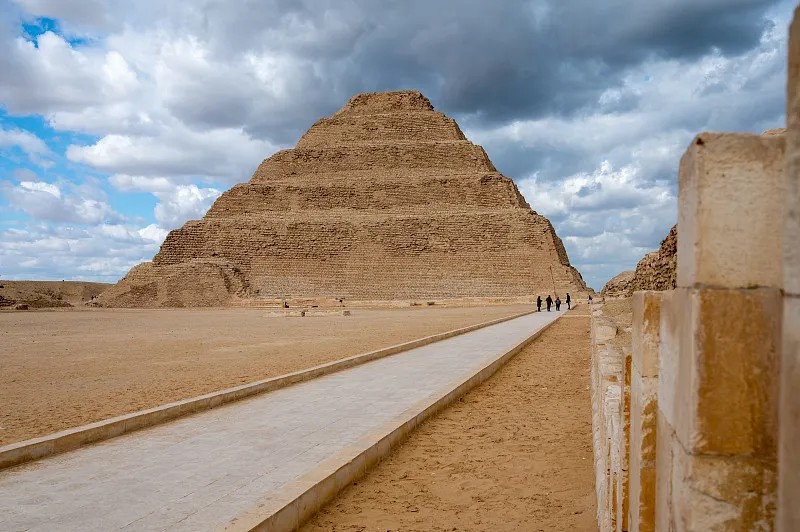Pyramid: (87, 91, 596, 296)
